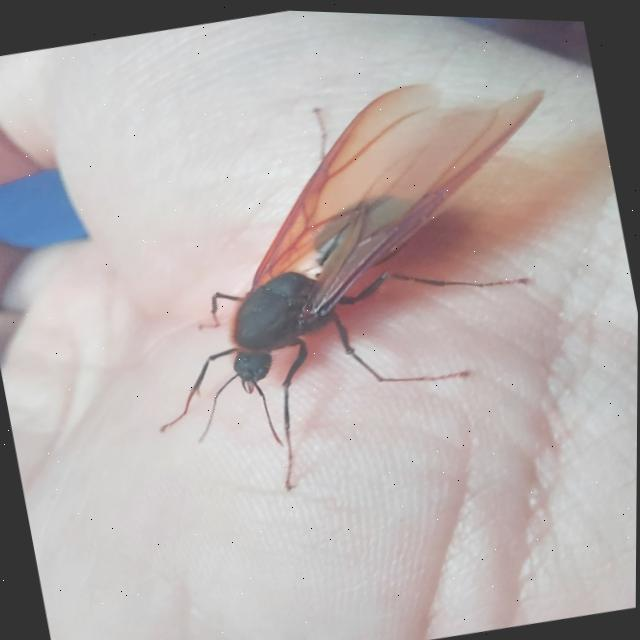Alive-Male-Alate: (103, 46, 613, 521)
